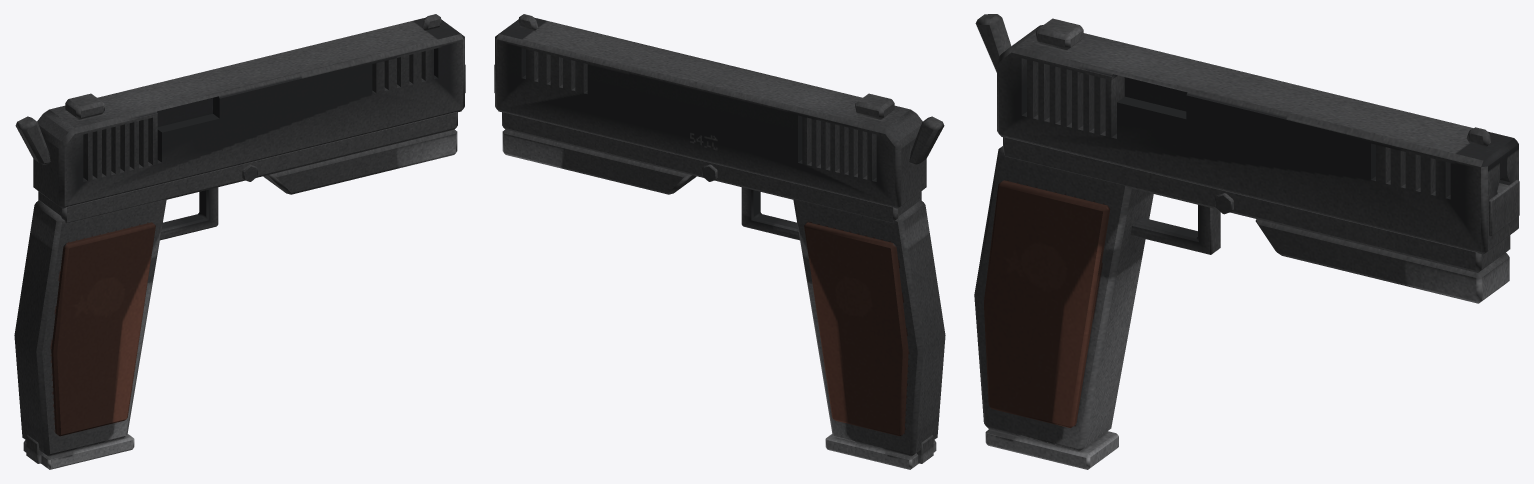
Rendered from type54.gltf.
3 views of the same model, side by side, from view 1: azimuth 30°, elevation 25°; view 2: azimuth 150°, elevation 25°; view 3: azimuth 330°, elevation 25° (orthographic). The views are drawn at different scales.
Parts seen in each view (by area): view 1: type54; view 2: type54; view 3: type54.
Part boxes in pixels (box(x1,y1,x2,y2)): type54: box(14, 14, 465, 469); type54: box(494, 14, 945, 469); type54: box(974, 14, 1519, 469).
Bounding box in the file's own units: 0.2113 × 0.162 × 0.0284.
Materials: 1 (1 with a texture image).
